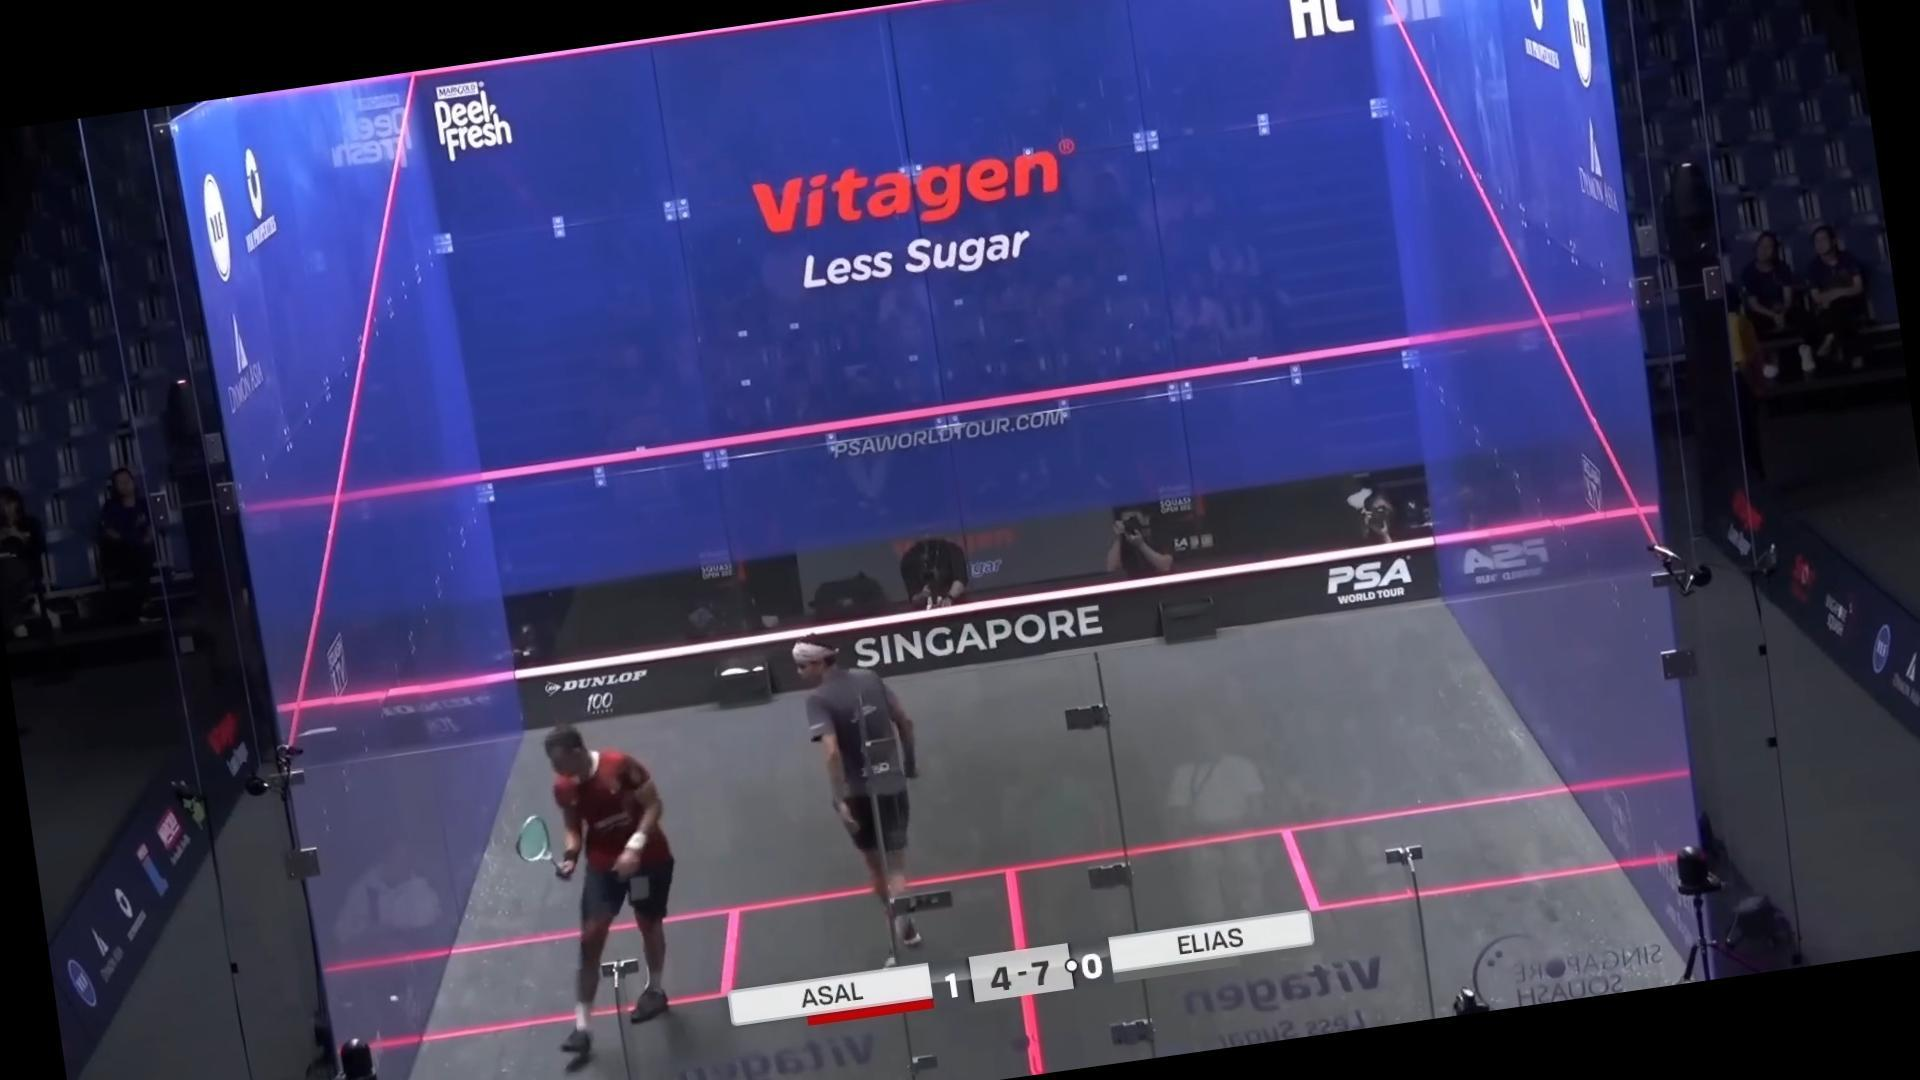Squash-Ball: (377, 978, 411, 1021)
